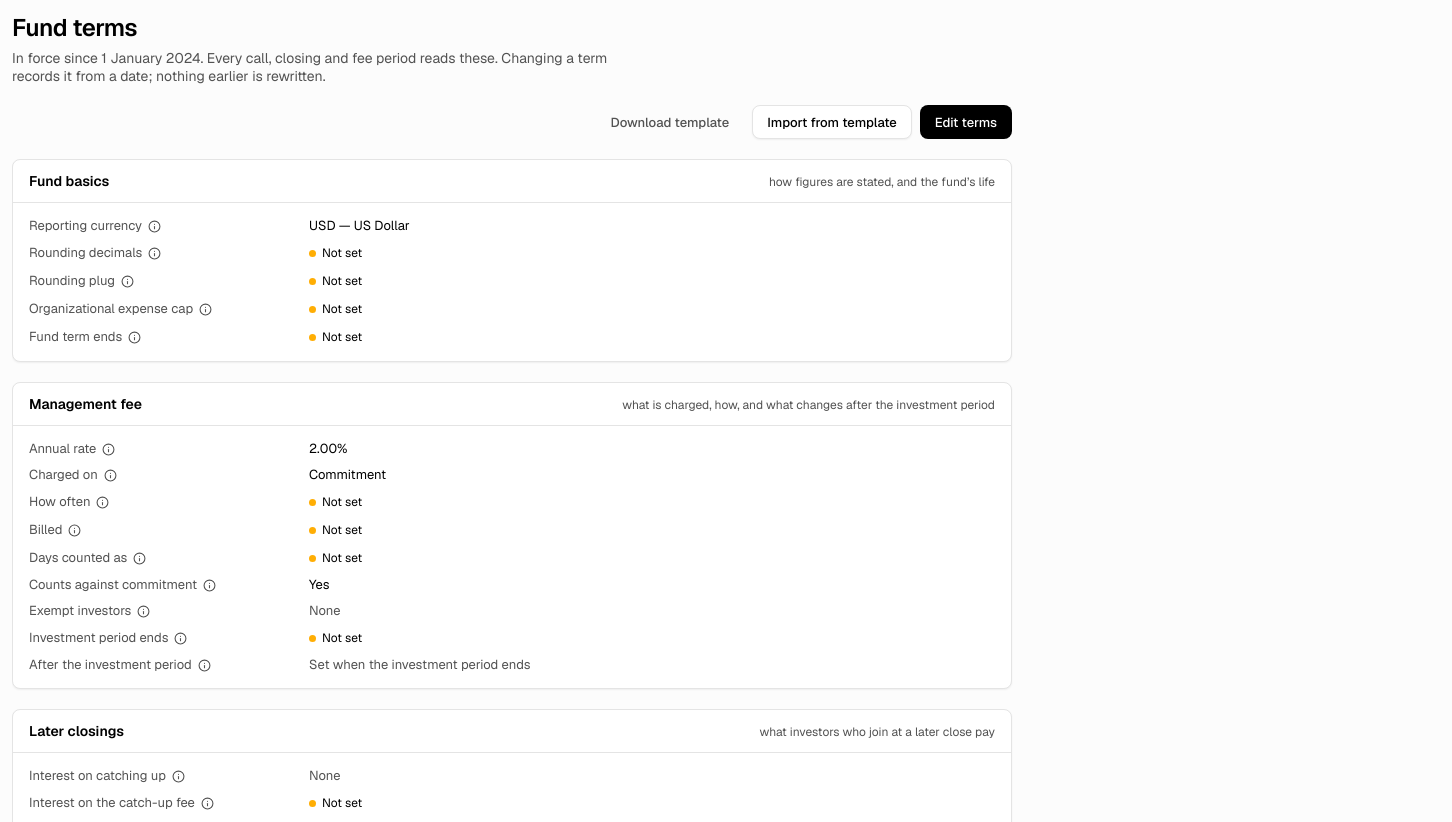
it: what is in force › explains every field behind its (i)
Focus the button named "About Rounding plug" at point(128, 281), box [119, 273, 136, 290]
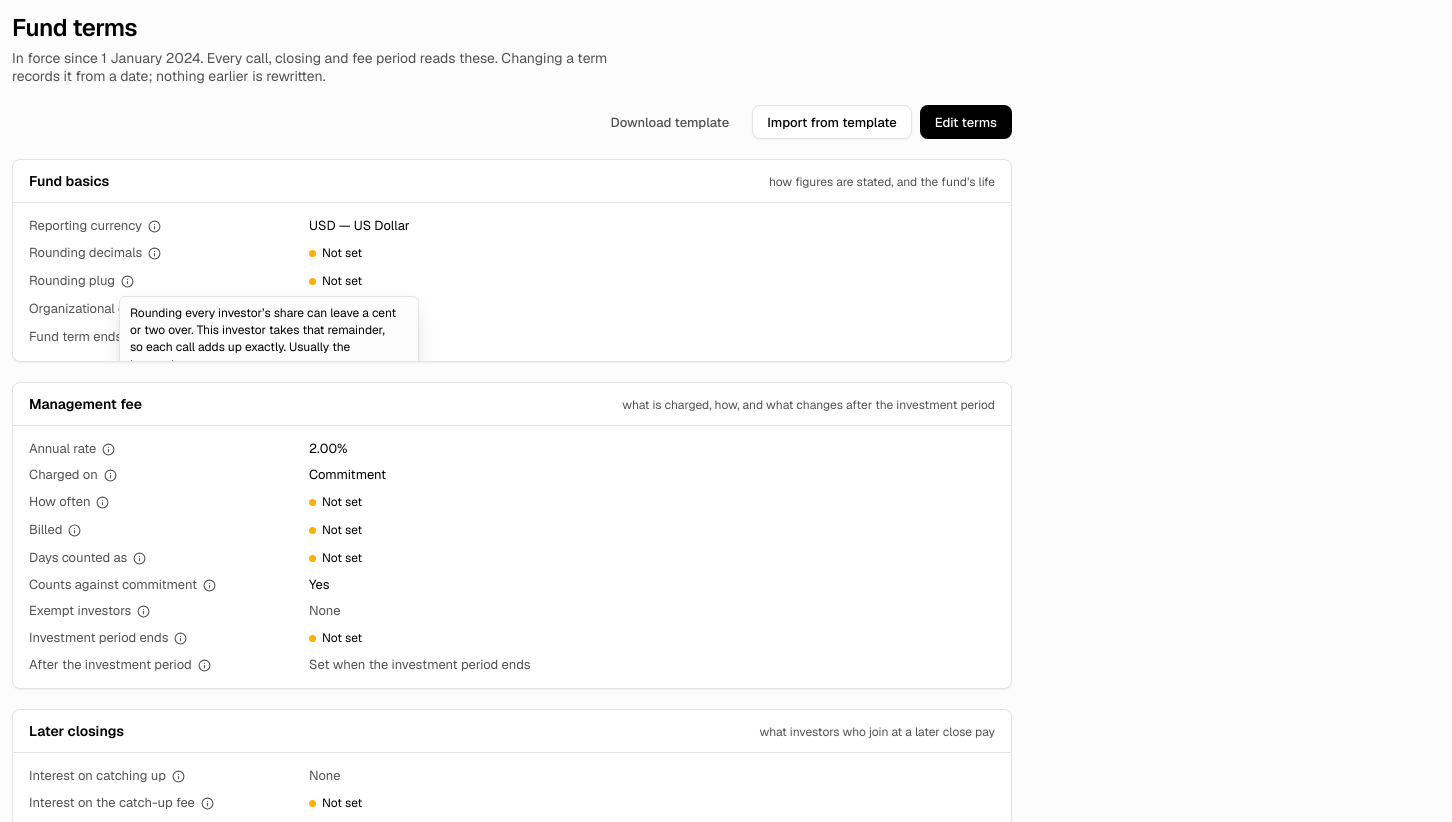
Result: the tooltip shows "takes that remainder" at [130, 305, 396, 362]
